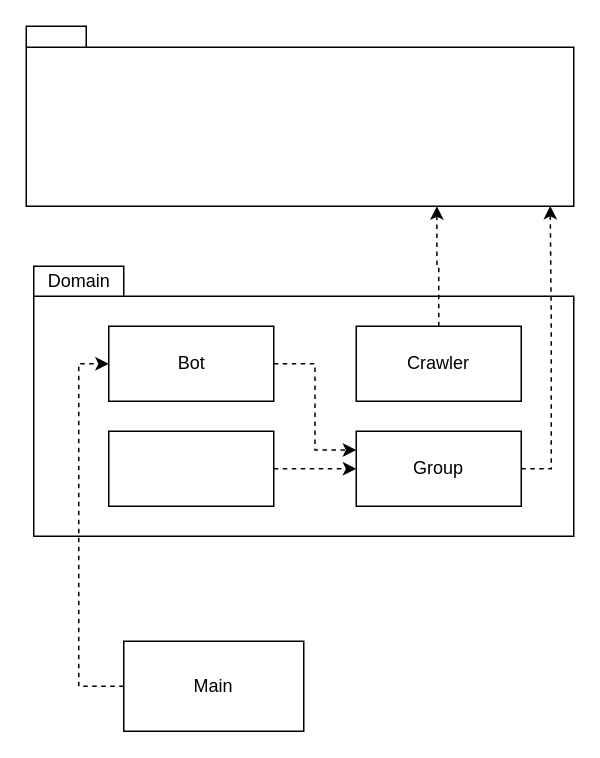
Some shapes in this 600 by 758 pixel diagram are drawn without their labels. The shapes that lost their labels are listed below. From the top down, each one's centre as x and y in pixels, then its label:
At pixel 299 115: "Database".
At pixel 190 468: "Waifu".
